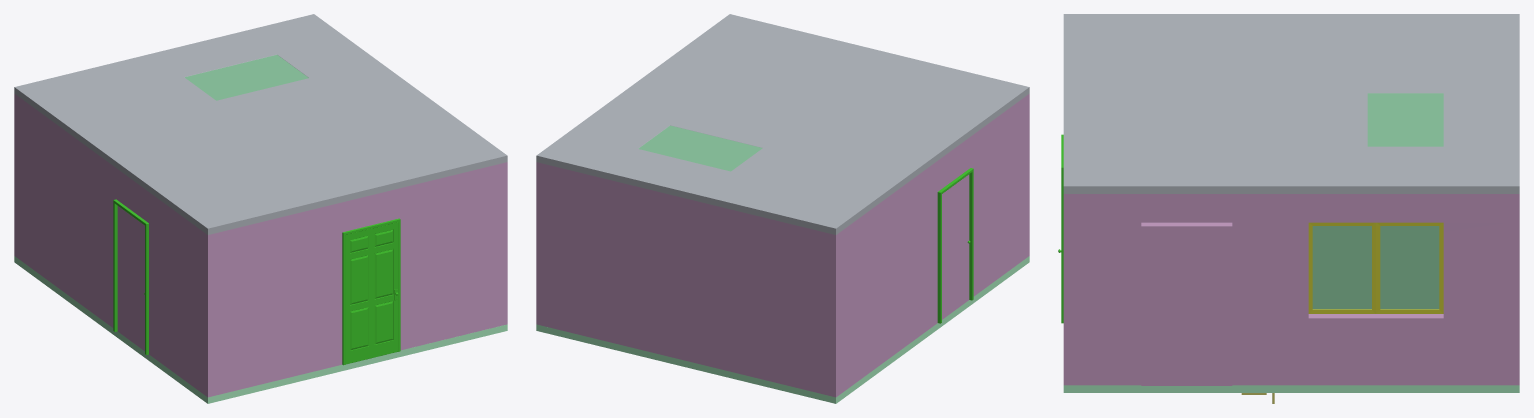
The model's file is FloorPlan1_physics.fbx.
3 views of the same model, side by side, from view 1: azimuth 30°, elevation 25°; view 2: azimuth 150°, elevation 25°; view 3: azimuth 270°, elevation 25° (orthographic). The views are drawn at different scales.
Visible parts, largest first — view 1: Walls, Ceiling, StandardDoor1, Floor, WindowGlass (2), StandardDoorFrame1 (2), StandardDoorFrame1; view 2: Walls, Ceiling, Floor, WindowGlass (2), StandardDoorFrame1 (2); view 3: Ceiling, Walls, WindowGlass, WindowGlass (2), Floor, StandardWindow1 (3) (2), StandardWindow1 (3), StandardDoorFrame1.
Part boxes in pixels (x1,y1,x2,y2): Walls: [14, 94, 507, 397]; Ceiling: [14, 14, 507, 234]; StandardDoor1: [346, 222, 397, 364]; Floor: [14, 256, 507, 403]; WindowGlass (2): [185, 55, 308, 100]; StandardDoorFrame1 (2): [113, 199, 148, 354]; StandardDoorFrame1: [342, 218, 400, 365]; Walls: [536, 94, 1029, 397]; Ceiling: [536, 14, 1029, 234]; Floor: [536, 256, 1029, 403]; WindowGlass (2): [638, 125, 762, 171]; StandardDoorFrame1 (2): [937, 168, 973, 323]; Ceiling: [1063, 14, 1519, 193]; Walls: [1063, 194, 1519, 385]; WindowGlass: [1312, 226, 1439, 309]; WindowGlass (2): [1367, 93, 1443, 146]; Floor: [1063, 385, 1519, 392]; StandardWindow1 (3) (2): [1376, 222, 1443, 313]; StandardWindow1 (3): [1308, 222, 1375, 313]; StandardDoorFrame1: [1061, 134, 1063, 323].
Bounding box in the file's own units: 498 × 298 × 546.
